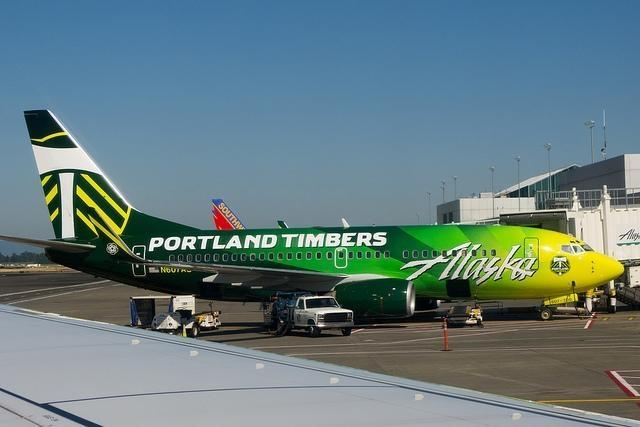truck: (262, 291, 355, 337)
